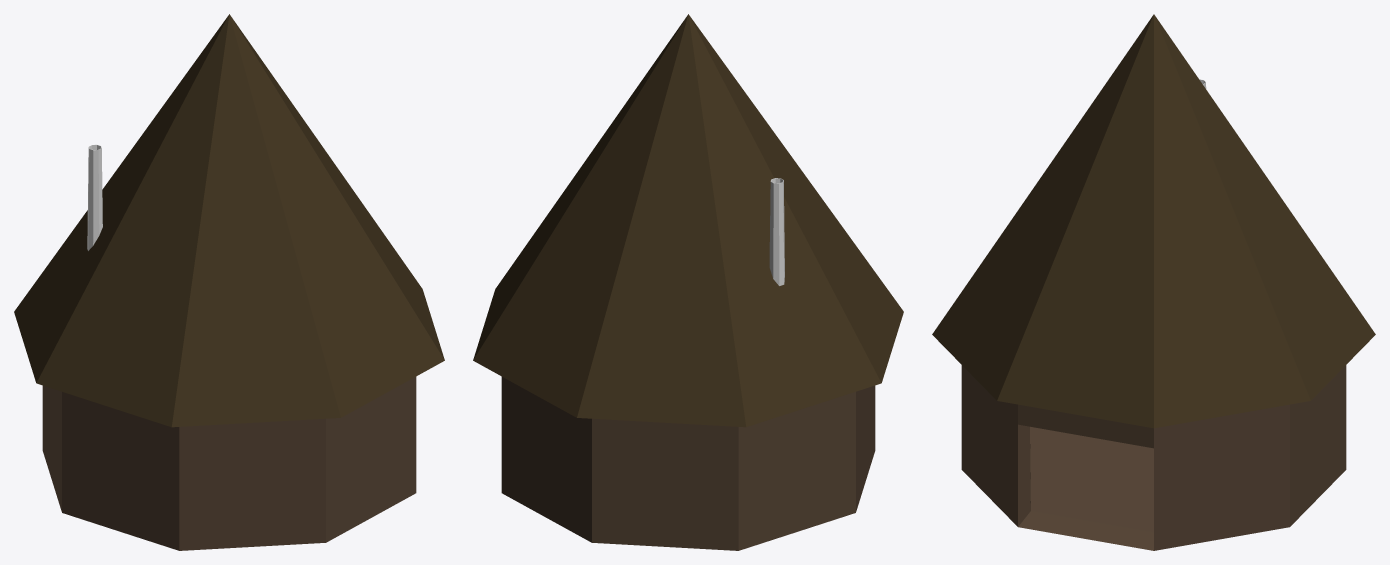
Rendered from cabine.fbx.
3 renders of one model, left to right at view 1: azimuth 30°, elevation 25°; view 2: azimuth 150°, elevation 25°; view 3: azimuth 270°, elevation 25°, orthographic.
Visible parts, largest first — view 1: Cone, Cylinder.002, Cylinder.001; view 2: Cone, Cylinder.002, Cylinder.001; view 3: Cone, Cylinder.002.
Part boxes in pixels (x1,y1,x2,y2): Cone: [14, 14, 444, 427]; Cylinder.002: [42, 377, 416, 550]; Cylinder.001: [87, 144, 102, 250]; Cone: [473, 14, 903, 427]; Cylinder.002: [501, 377, 875, 550]; Cylinder.001: [769, 178, 784, 285]; Cone: [932, 14, 1375, 428]; Cylinder.002: [961, 365, 1346, 550].
Size of the model in its own units: 2.31 by 2.61 by 2.31.
